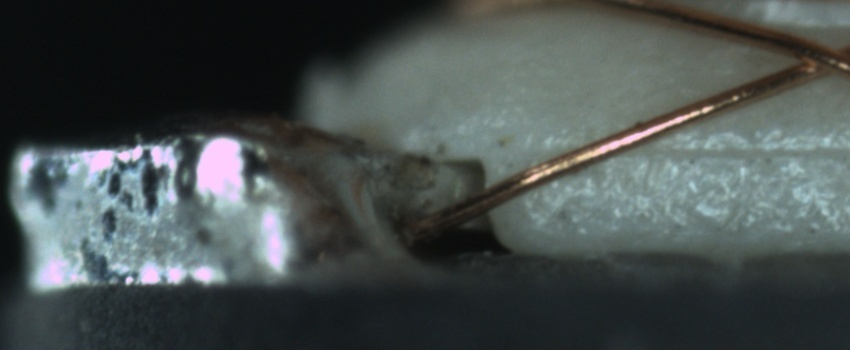CL: (772, 30, 848, 85)
DL: (546, 119, 850, 182)
